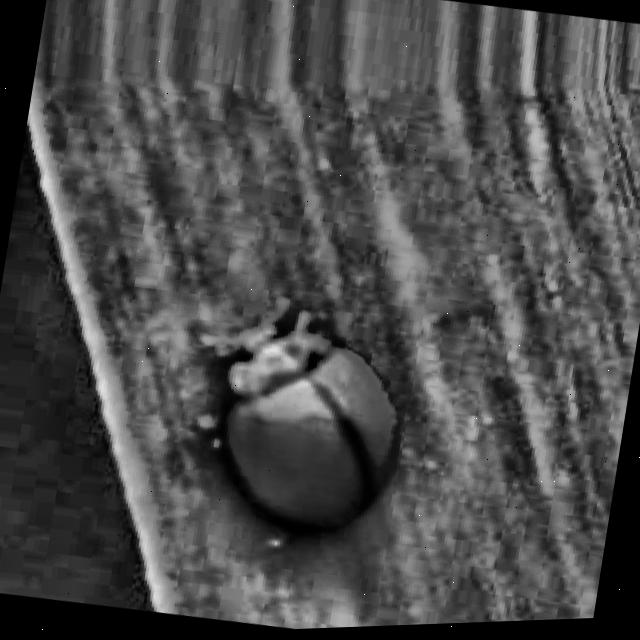Ladybug: (111, 246, 495, 598)
